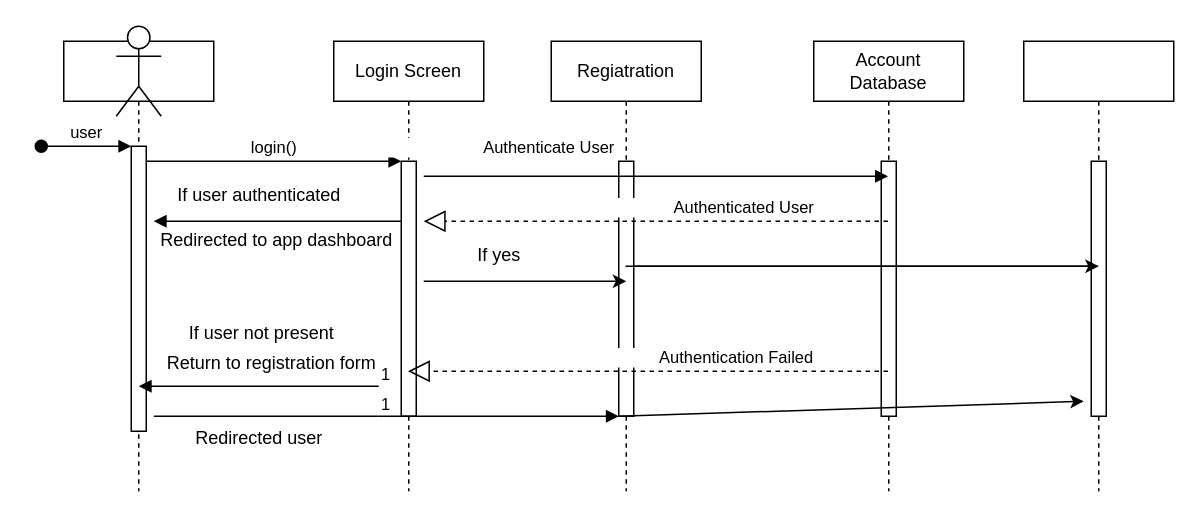
This 1200x518 diagram has some shape labels left out. Each missing label, with the box of its shape:
Actor: (115, 25, 161, 116)
App Dashboard: (1022, 40, 1174, 491)
